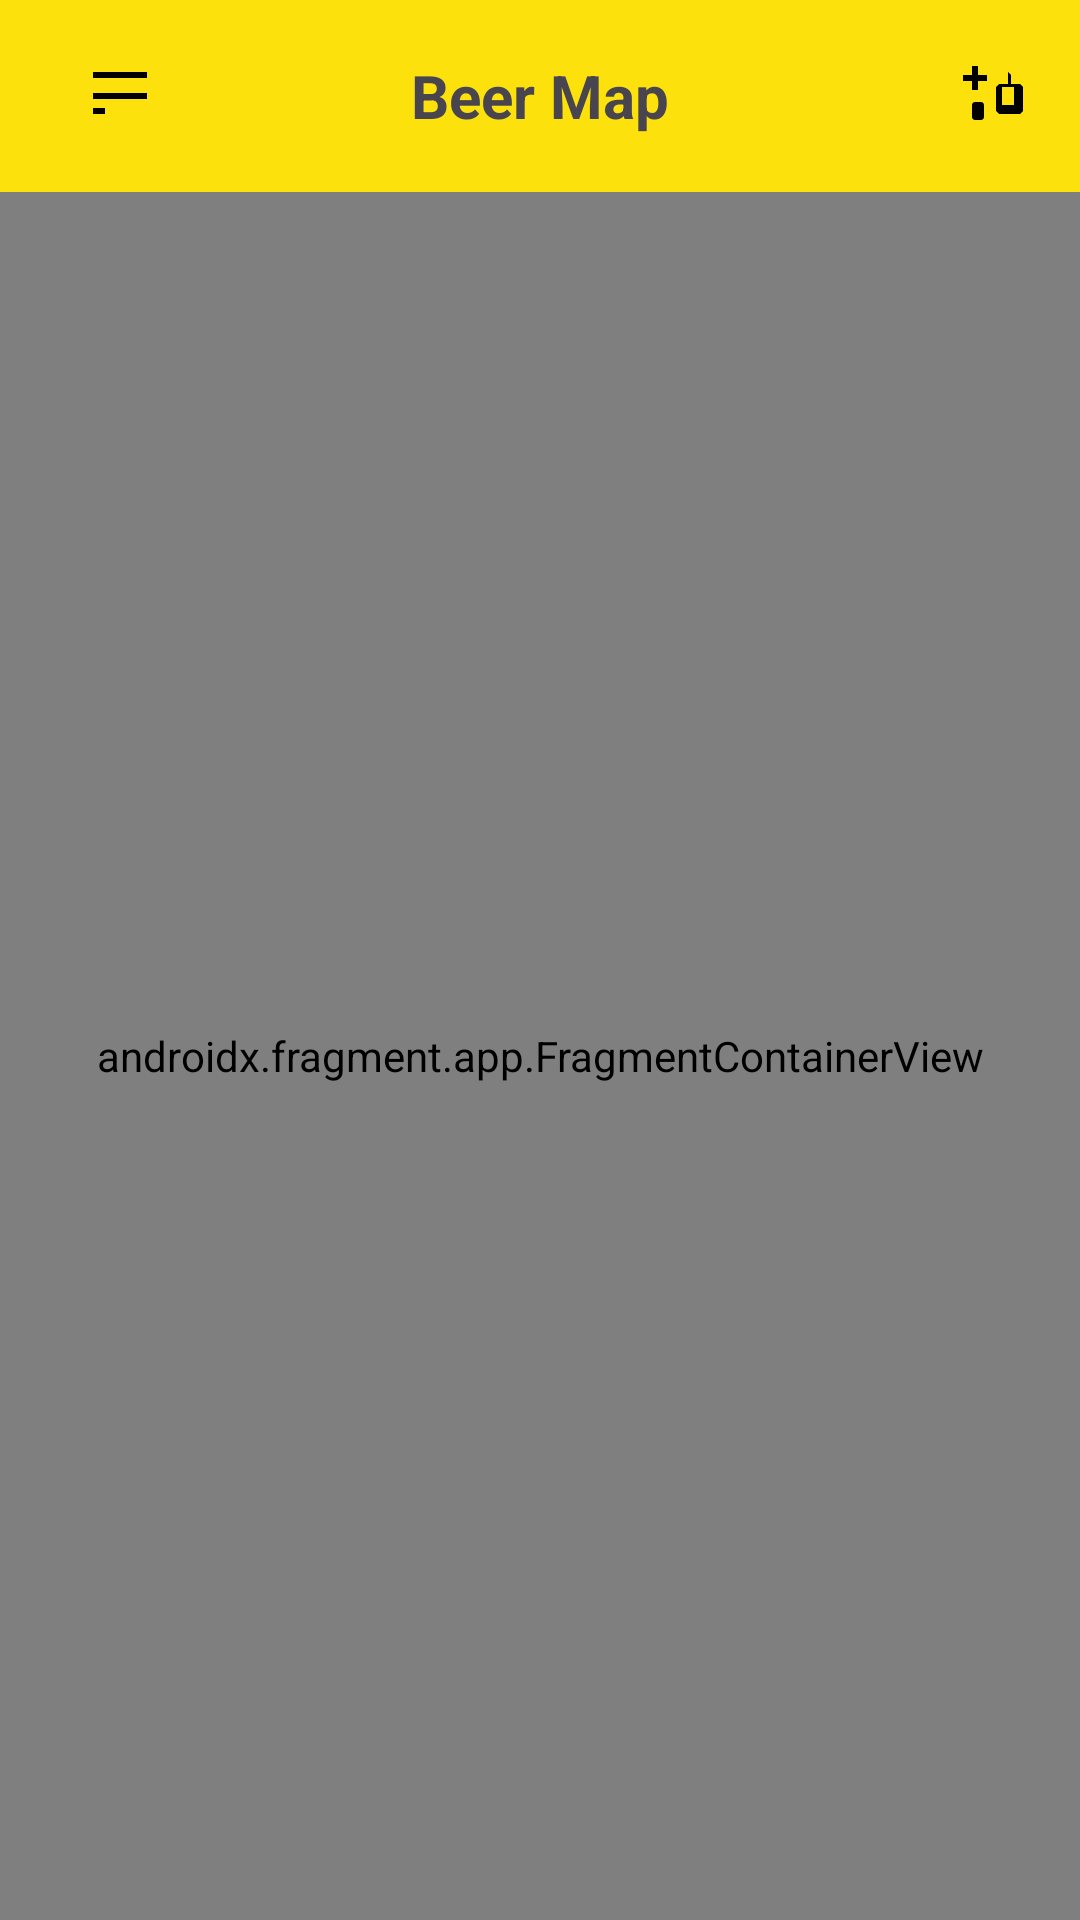

Icons on this 1080*1920 Android screen, each with the point to tap as (x,y):
beer: (993,93)
menu: (120,93)
